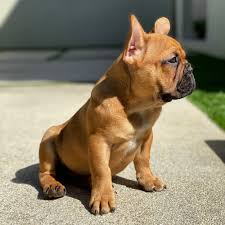Bulldog: (25, 5, 203, 220)
